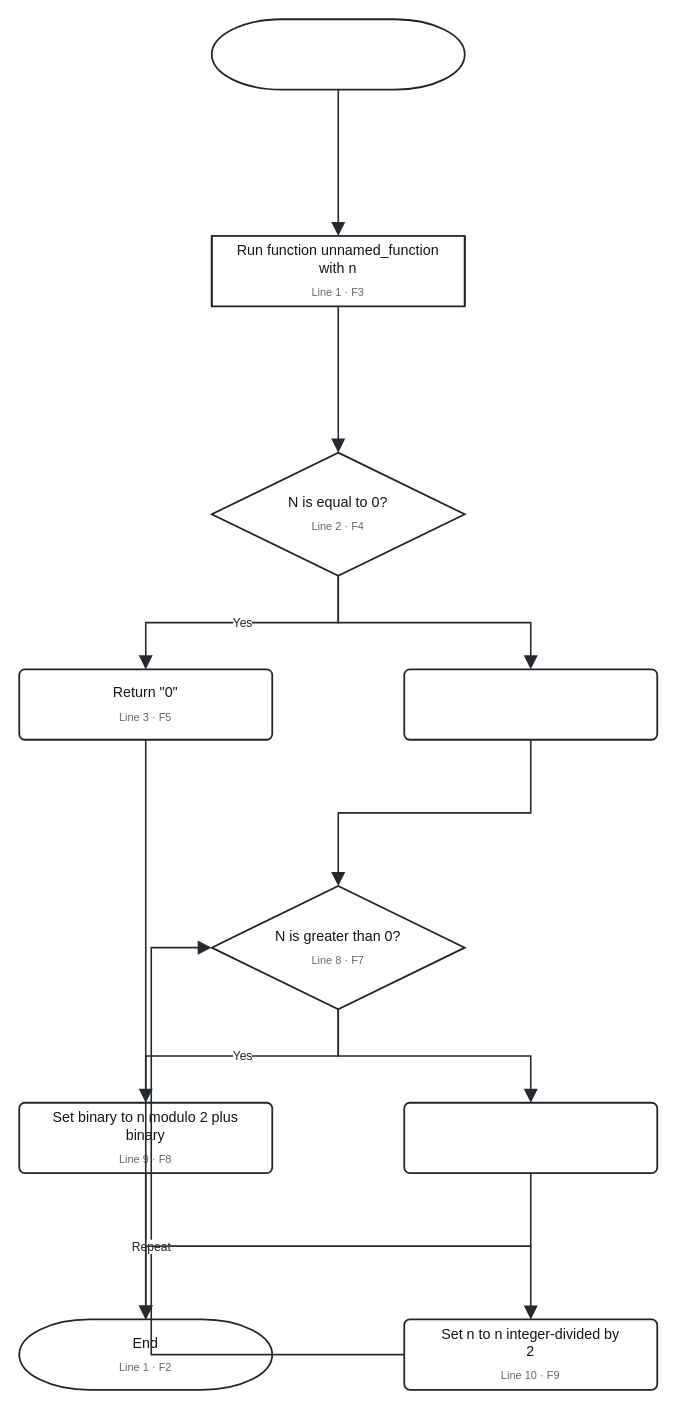
Image size: 678x1410. Some labels were removed from this diagram. Each missing label, with the box of its shape:
Return binary Line 13 · F10: (403, 1101, 658, 1173)
Set binary to an empty string Line 6 · F6: (403, 668, 658, 740)
Start Line 1 · F1: (210, 18, 465, 90)
